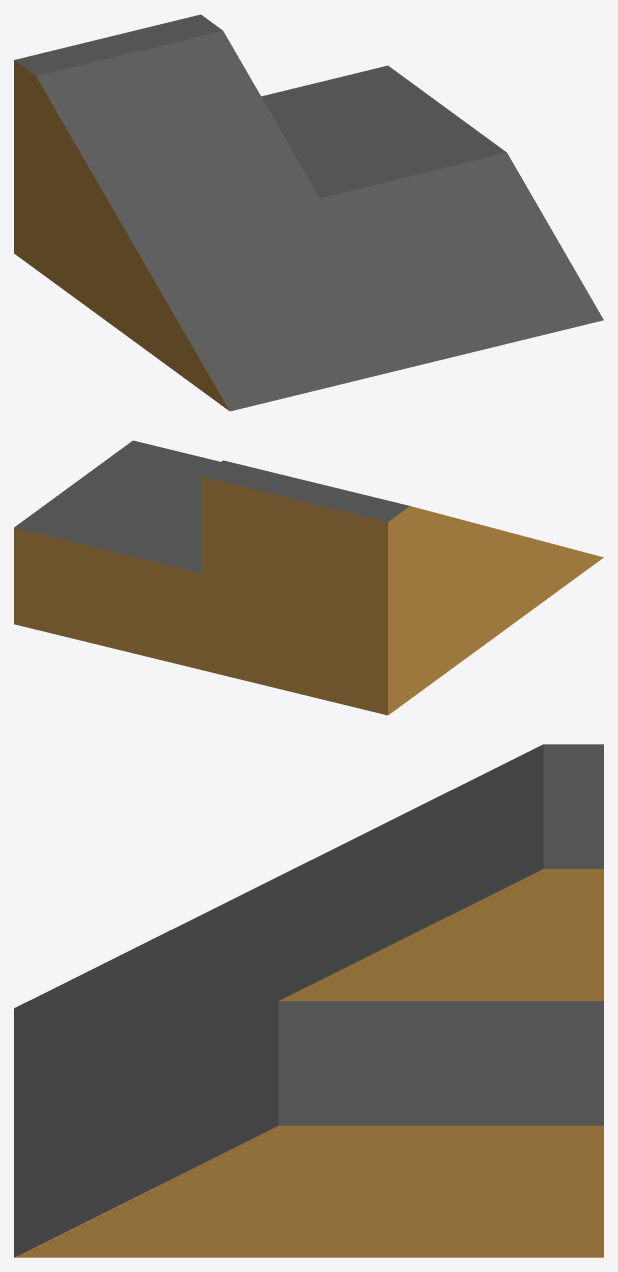
The model's file is Skate_Wedge_w_Half_Wedge_01.FBX.
3 views of the same model, one above another, from view 1: azimuth 30°, elevation 25°; view 2: azimuth 150°, elevation 25°; view 3: azimuth 270°, elevation 25° (orthographic). The views are drawn at different scales.
Parts seen in each view (by area): view 1: Skate_Wedge_w_Half_Wedge_01; view 2: Skate_Wedge_w_Half_Wedge_01; view 3: Skate_Wedge_w_Half_Wedge_01.
Part boxes in pixels (bbox=[...]): Skate_Wedge_w_Half_Wedge_01: bbox=[14, 14, 603, 411]; Skate_Wedge_w_Half_Wedge_01: bbox=[14, 440, 603, 715]; Skate_Wedge_w_Half_Wedge_01: bbox=[14, 744, 603, 1257].
Bounding box in the file's own units: 3 × 1.48 × 3.
